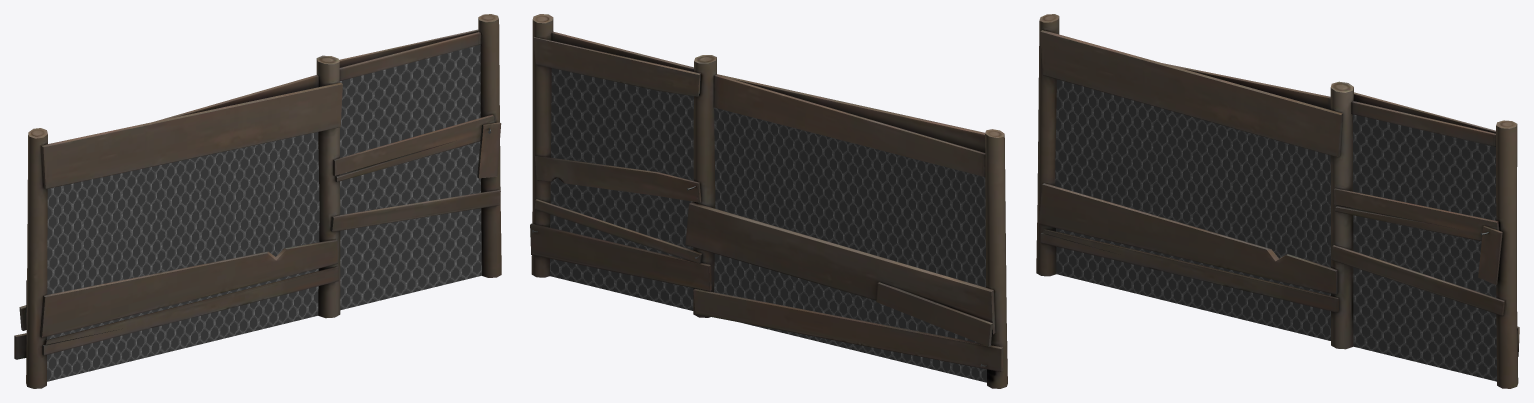
3 renders of one model, left to right at view 1: azimuth 30°, elevation 25°; view 2: azimuth 150°, elevation 25°; view 3: azimuth 330°, elevation 25°, orthographic.
Visible parts, largest first — view 1: body0_model0_lod0_mesh0, body0_model0_lod0_mesh1; view 2: body0_model0_lod0_mesh1, body0_model0_lod0_mesh0; view 3: body0_model0_lod0_mesh0, body0_model0_lod0_mesh1.
Boxes of the visible parts, x1,y1,x2,y2 form: body0_model0_lod0_mesh0: (47,44,481,381); body0_model0_lod0_mesh1: (14,14,501,388); body0_model0_lod0_mesh1: (530,14,1007,388); body0_model0_lod0_mesh0: (550,68,986,382); body0_model0_lod0_mesh0: (1055,79,1496,381); body0_model0_lod0_mesh1: (1036,14,1519,388).
Size of the model in its own units: 261 by 134 by 24.46.
2 materials, 2 textured.
